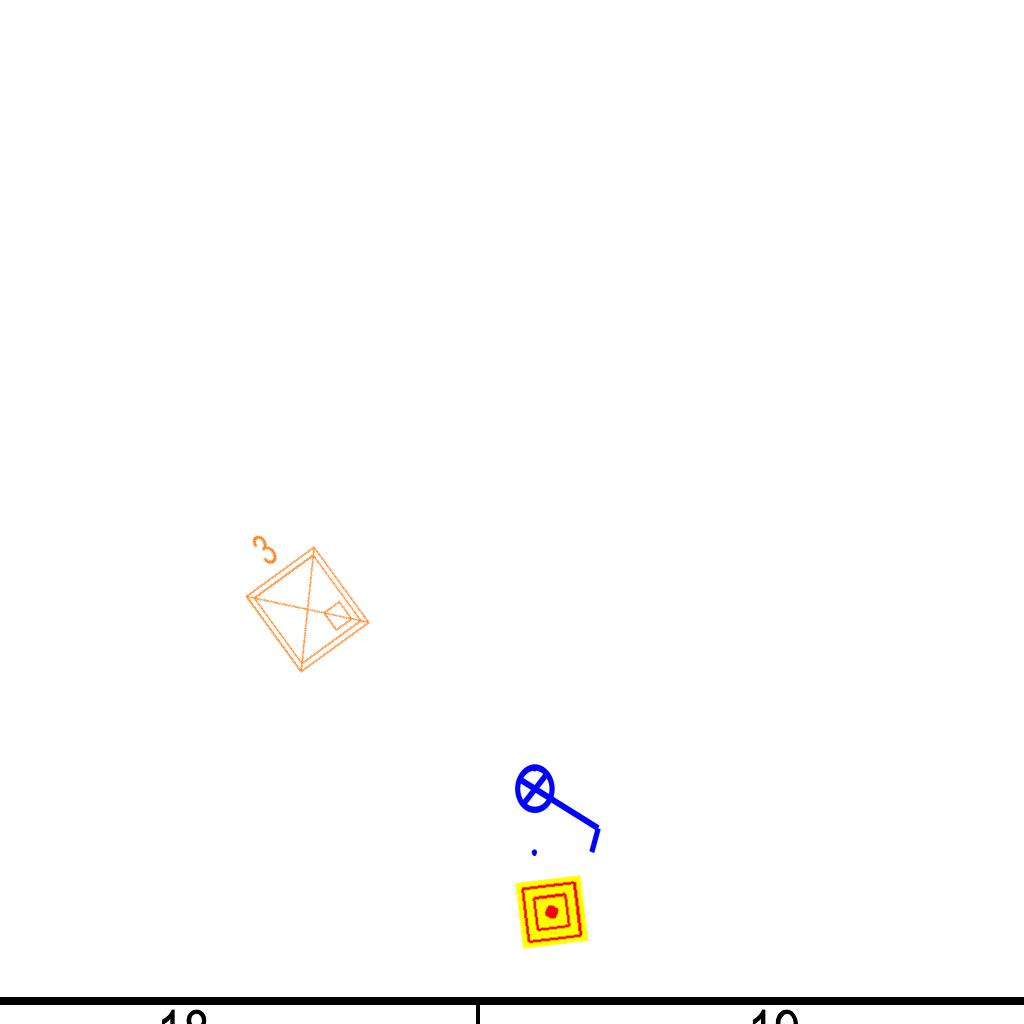Ausschalter_beleuchtet: (513, 750, 609, 862)
Einbaudownlights_LED_Konferenzraeume: (207, 502, 381, 686)
NAM-Nichtautomatischer_Melder: (515, 875, 589, 949)
